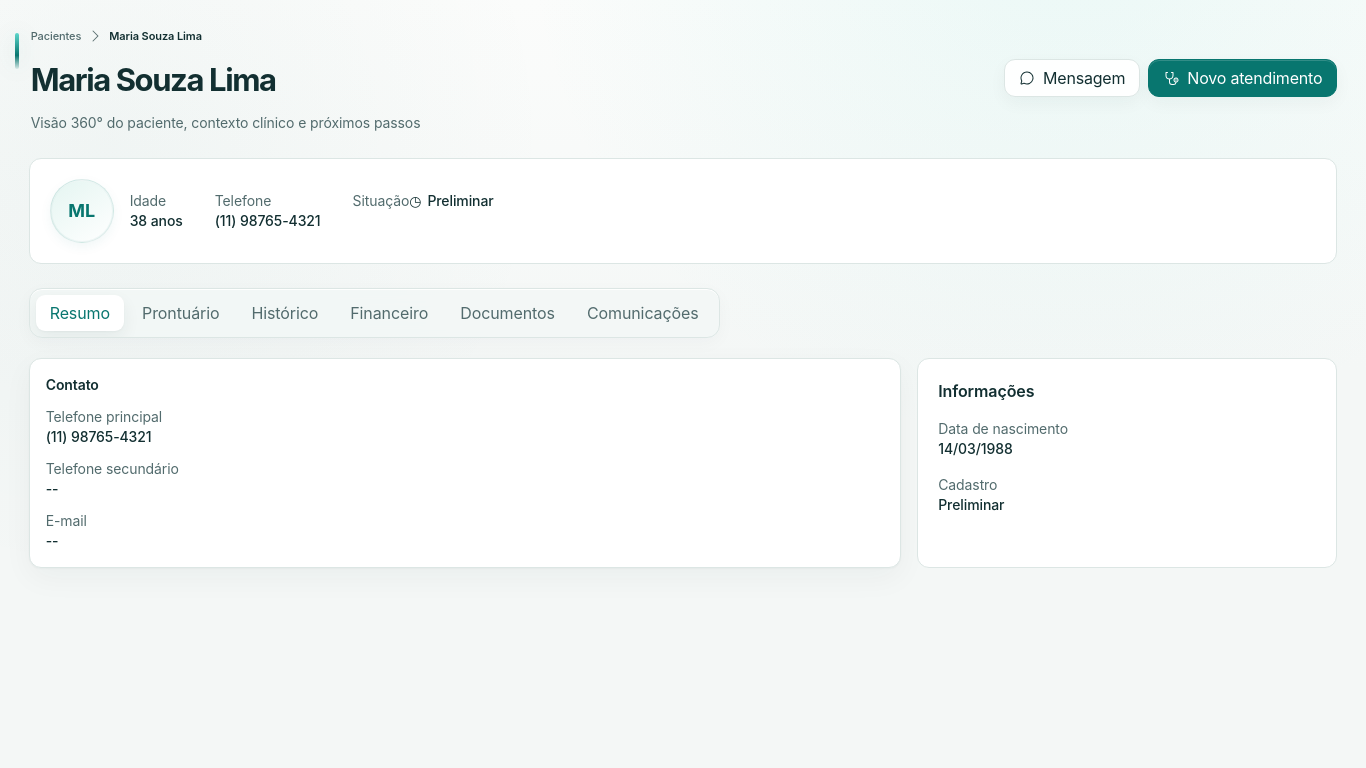
Scenario: FichaDoPaciente › muda conteúdo ao clicar em tab
Expected: the heading "Contato" is shown, [46, 375, 99, 395]
# Clicar em Historico mostra timeline
Click the tab "Histórico" at (285, 313), box [237, 295, 332, 331]
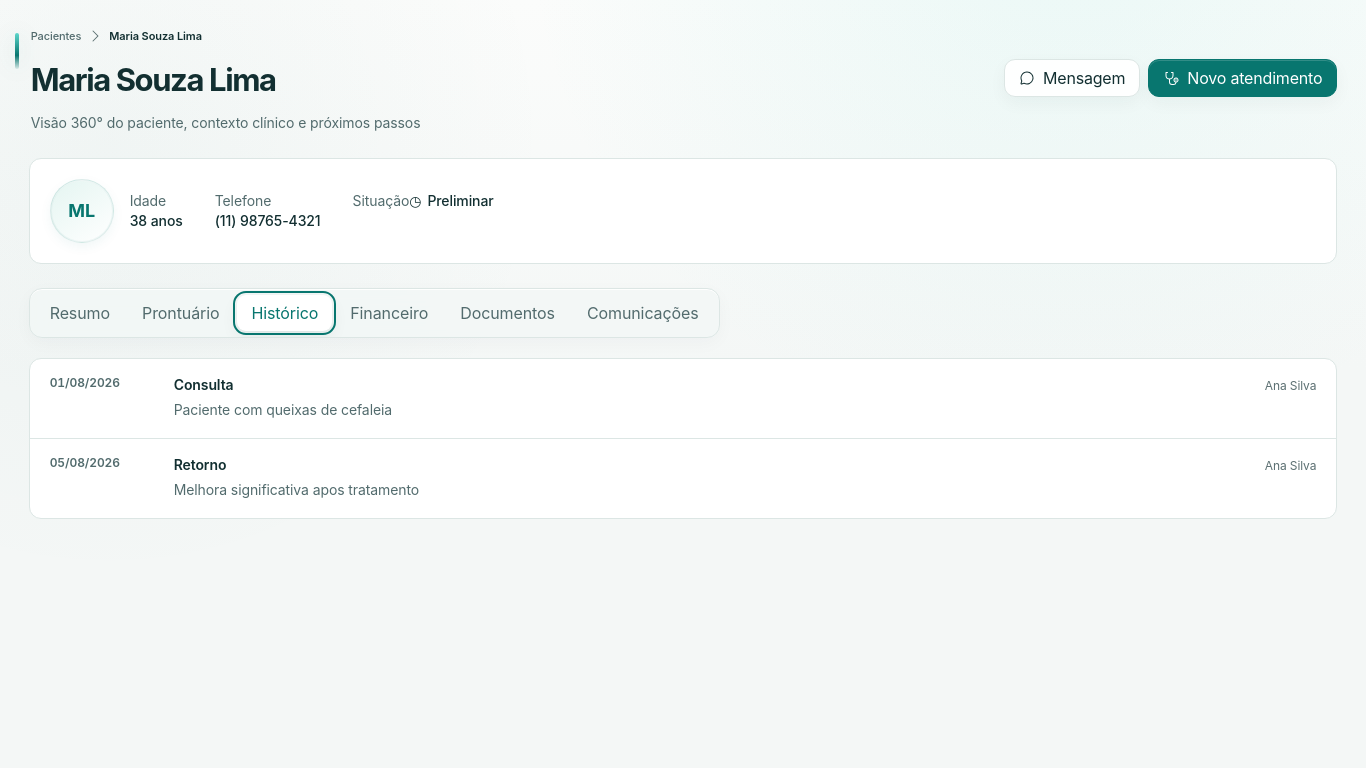
Expected: the text "Consulta" is shown, [174, 375, 234, 395]
# Clicar em Documentos mostra placeholder
Click the tab "Documentos" at (508, 313), box [446, 295, 569, 331]
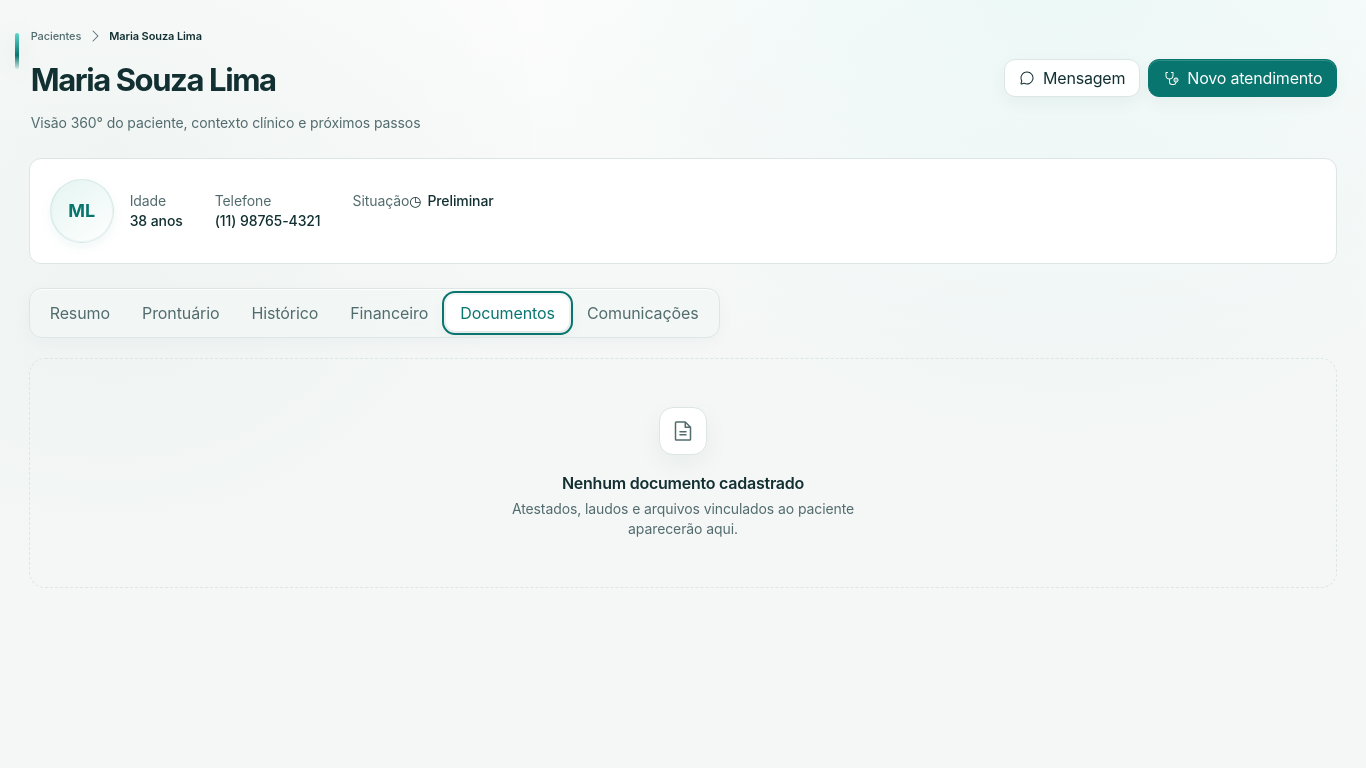
Expected: the text "Nenhum documento cadastrado" is shown, [562, 471, 804, 495]
